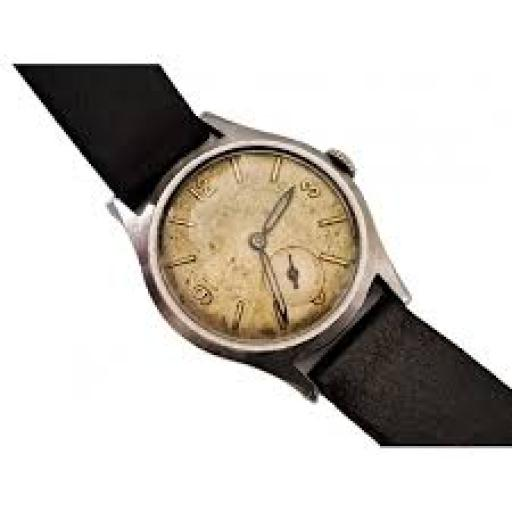KolSaati: (8, 44, 512, 446)
